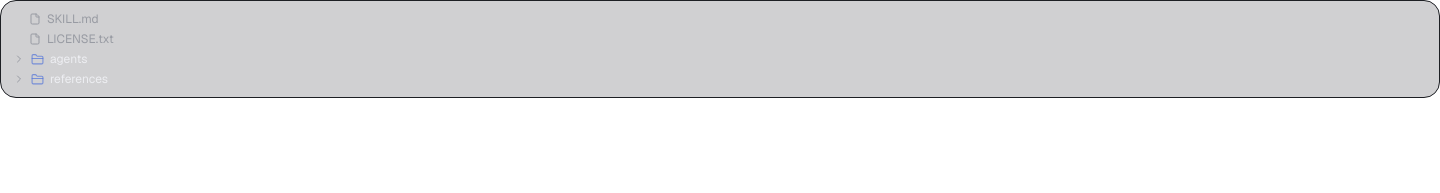
Test: SkillFileSection file previews › keeps at most one file preview open (accordion)
The width and height of the screenshot is (1440, 193).
What coordinates should you click on to do the following:
click the button "SKILL.md"
I would click on:
 (73, 19)
Its box is [9, 9, 1431, 29].
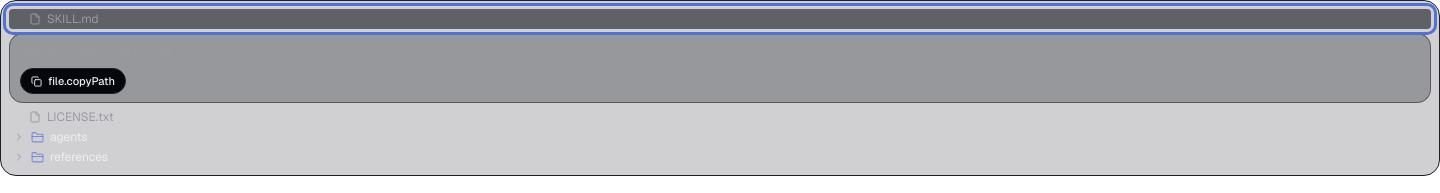
What coordinates should you click on to do the following:
click the button "LICENSE.txt"
I would click on:
 (80, 117)
Its box is [9, 107, 1431, 127].
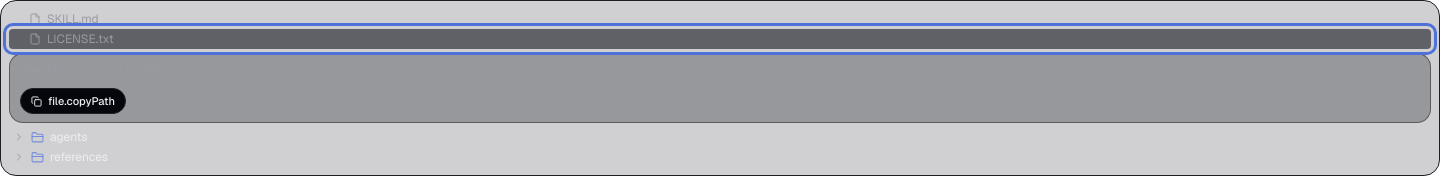
Now the text "CONTENT:/skill/SKILL.md" is gone
